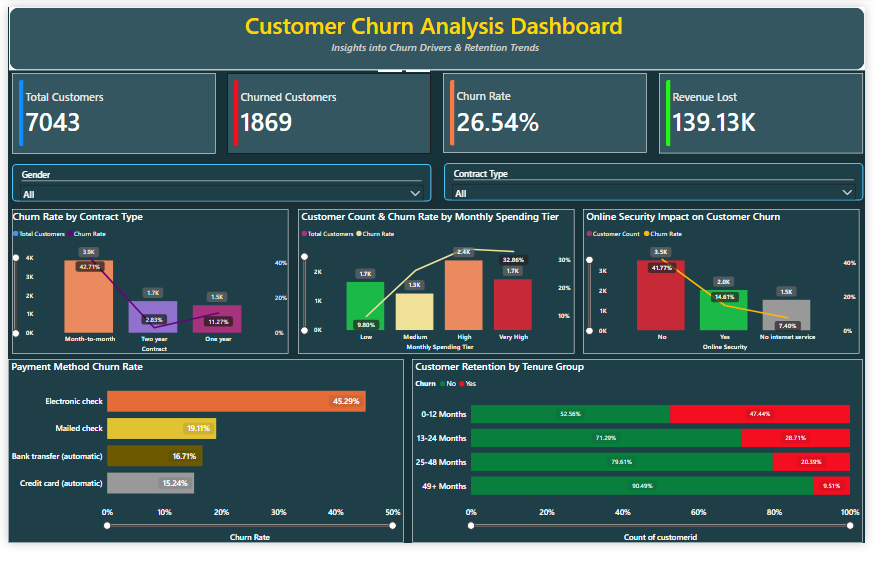

This screenshot's page, from the dashboard's own definition file:
{"tool":"powerbi","page":{"name":"Page 1","canvas":[1600,1000],"ordinal":0},"visuals":[{"type":"lineStackedColumnComboChart","title":"Churn Rate by Contract Type","fields":{"Category":["public telco_churn.contract"],"Y":["public telco_churn.Total Customers"],"Y2":["public telco_churn.Churn Rate"]},"box":[7.6,377.1,516.2,270],"z":0},{"type":"cardVisual","fields":{"Data":["public telco_churn.Total Customers"]},"box":[6.9,123.8,380,150.9],"z":1000},{"type":"cardVisual","fields":{"Data":["public telco_churn.Churned Customers"]},"box":[409.7,123.8,380,150.9],"z":2000},{"type":"hundredPercentStackedBarChart","title":"Customer Retention by Tenure Group","fields":{"Series":["public telco_churn.churn"],"Y":["CountNonNull(public telco_churn.customerid)"],"Category":["public telco_churn.Tenure Group"]},"box":[754.3,657.1,841.9,342.9],"z":3000},{"type":"cardVisual","fields":{"Data":["public telco_churn.Churn Rate"]},"box":[812.4,123.8,380,149.1],"z":4000},{"type":"slicer","fields":{"Values":["public telco_churn.gender"]},"box":[7.6,293.3,782.9,70.5],"z":5000},{"type":"cardVisual","fields":{"Data":["public telco_churn.Revenue Lost"]},"box":[1215.2,123.8,381,150.5],"z":6000},{"type":"slicer","fields":{"Values":["public telco_churn.contract"]},"box":[813.3,291.4,782.9,70.5],"z":7000},{"type":"lineStackedColumnComboChart","title":"Online Security Impact on Customer Churn","fields":{"Category":["public telco_churn.onlinesecurity"],"Y":["CountNonNull(public telco_churn.customerid)"],"Y2":["public telco_churn.Churn Rate"]},"box":[1074.3,377.1,516.2,270.5],"z":8000},{"type":"lineClusteredColumnComboChart","title":"Customer Count & Churn Rate by Monthly Spending Tier","fields":{"Category":["public telco_churn.Monthly Charge Group"],"Y":["public telco_churn.Total Customers"],"Y2":["public telco_churn.Churn Rate"]},"box":[541,377.1,516,270],"z":9000},{"type":"barChart","title":"Payment Method Churn Rate","fields":{"Category":["public telco_churn.payment method"],"Y":["public telco_churn.Churn Rate"]},"box":[0,657.1,739,342.9],"z":10000},{"type":"shape","box":[1.9,0,1598.1,118.1],"z":11000},{"type":"textbox","box":[0,0,1600,118.1],"z":12000}]}

Visuals, with their boxes in screenshot pixels (x1, y1, x2, y2):
"Churn Rate by Contract Type" lineStackedColumnComboChart: x1=9, y1=208, x2=287, y2=353
cardVisual - public telco_churn.Total Customers: x1=8, y1=71, x2=213, y2=153
cardVisual - public telco_churn.Churned Customers: x1=225, y1=71, x2=430, y2=153
"Customer Retention by Tenure Group" hundredPercentStackedBarChart: x1=411, y1=359, x2=864, y2=543
cardVisual - public telco_churn.Churn Rate: x1=442, y1=71, x2=647, y2=152
slicer - public telco_churn.gender: x1=9, y1=163, x2=430, y2=201
cardVisual - public telco_churn.Revenue Lost: x1=659, y1=71, x2=864, y2=152
slicer - public telco_churn.contract: x1=443, y1=162, x2=864, y2=200
"Online Security Impact on Customer Churn" lineStackedColumnComboChart: x1=583, y1=208, x2=861, y2=353
"Customer Count & Churn Rate by Monthly Spending Tier" lineClusteredColumnComboChart: x1=296, y1=208, x2=574, y2=353
"Payment Method Churn Rate" barChart: x1=5, y1=359, x2=403, y2=543
shape: x1=6, y1=5, x2=866, y2=68
textbox: x1=5, y1=5, x2=866, y2=68
